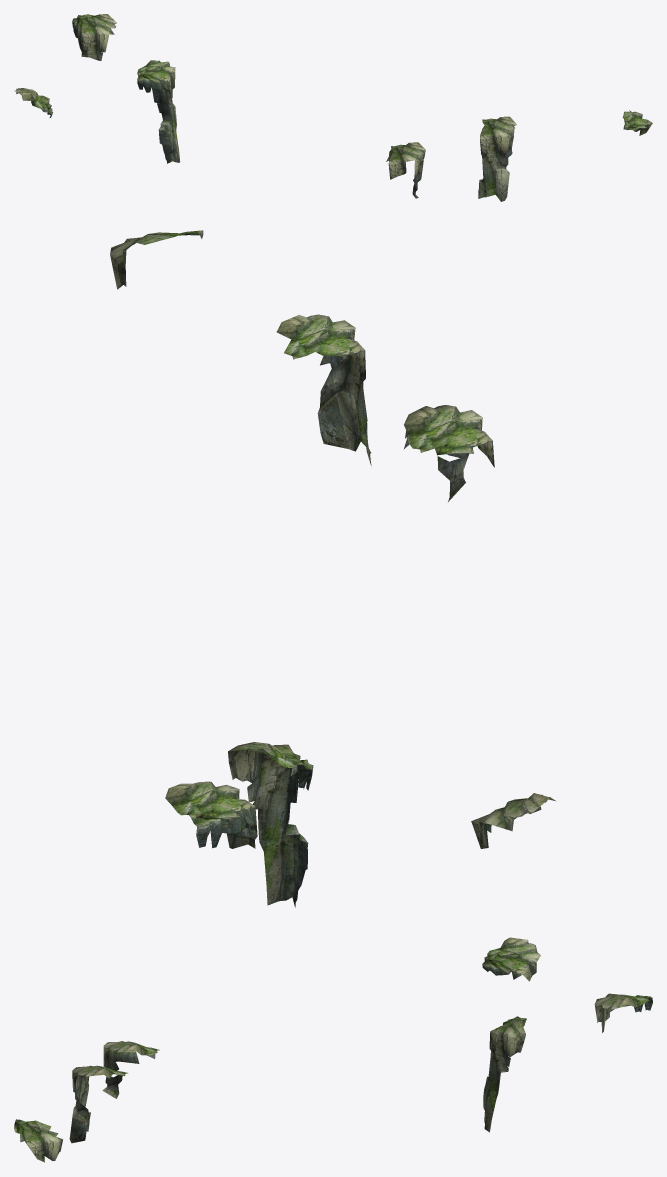
File: S_Rock_Green047_1.FBX
3 renders of one model, top to bottom at view 1: azimuth 30°, elevation 25°; view 2: azimuth 150°, elevation 25°; view 3: azimuth 270°, elevation 25°, orthographic. The views are drawn at different scales.
Visible parts, largest first — view 1: S_Rock_Green047_001, S_Rock_Green047_004, S_Rock_Green047_006, S_Rock_Green047_003, S_Rock_Green047_002, S_Rock_Green047_005; view 2: S_Rock_Green047_004, S_Rock_Green047_001, S_Rock_Green047_003, S_Rock_Green047_006, S_Rock_Green047_005, S_Rock_Green047_002; view 3: S_Rock_Green047_004, S_Rock_Green047_005, S_Rock_Green047_001, S_Rock_Green047_003, S_Rock_Green047_002, S_Rock_Green047_006.
Part boxes in pixels (x1,y1,x2,y2): S_Rock_Green047_001: (478,116,516,201); S_Rock_Green047_004: (137,60,180,163); S_Rock_Green047_006: (72,14,116,60); S_Rock_Green047_003: (386,142,425,198); S_Rock_Green047_002: (622,110,652,135); S_Rock_Green047_005: (14,88,52,117); S_Rock_Green047_004: (228,742,313,907); S_Rock_Green047_001: (276,314,371,465); S_Rock_Green047_003: (404,405,494,501); S_Rock_Green047_006: (165,781,257,848); S_Rock_Green047_005: (471,793,556,848); S_Rock_Green047_002: (110,230,203,289); S_Rock_Green047_004: (483,1016,526,1132); S_Rock_Green047_005: (482,937,540,981); S_Rock_Green047_001: (69,1065,128,1143); S_Rock_Green047_003: (102,1041,159,1098); S_Rock_Green047_002: (14,1119,62,1162); S_Rock_Green047_006: (594,993,652,1032).
Bounding box in the file's own units: 11162 × 3292 × 12755.
